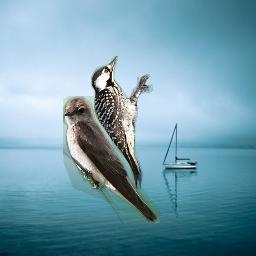Swallow: (63, 96, 160, 224)
Woodpecker: (91, 56, 153, 190)
